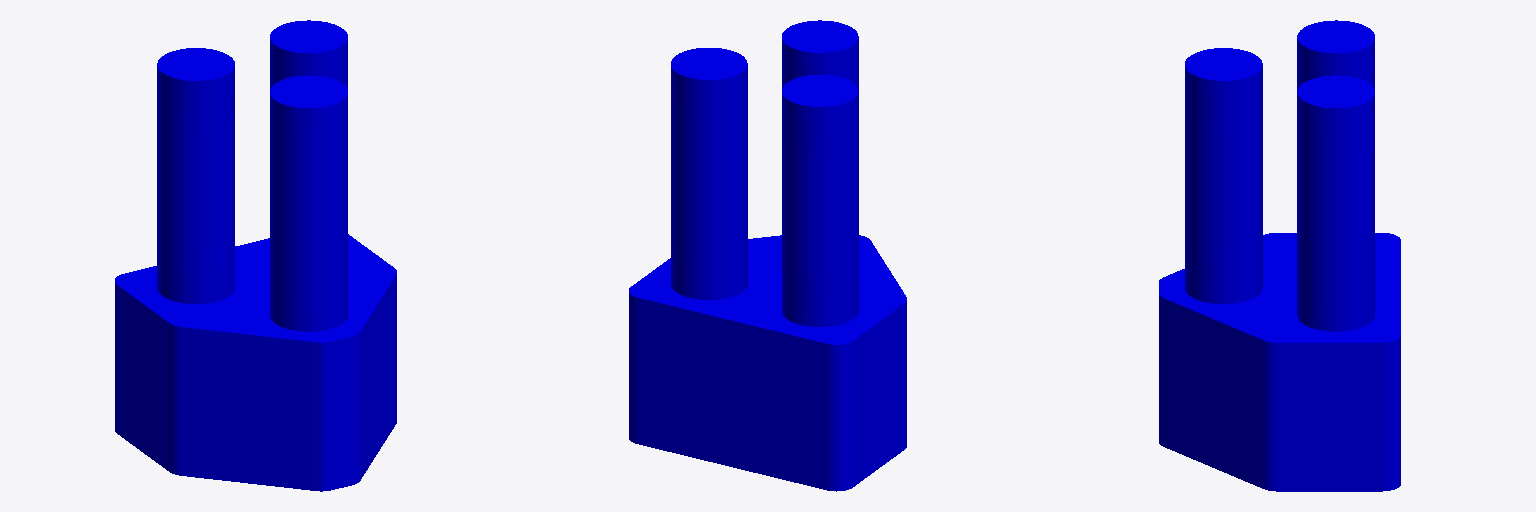
robot.urdf — board1_block2:
<?xml version="1.0"?>
<robot name="board1_block2">
    <link name="board1_block2">
        <visual>
            <origin xyz="0 0 0 " rpy=" 0 0 0"/>
            <geometry>
                <mesh filename="../meshes/SIMO_Board1_Block2.stl" scale="0.001 0.001 0.001"/>
            </geometry>
            <material name="red">
                <color rgba="0.0 0.0 1.0 1.0"/>
            </material>
        </visual>
        <collision>
            <origin xyz="0 0 0" rpy="0 0 0"/>
            <geometry>
                <mesh filename="../meshes/SIMO_Board1_Block2.stl" scale="0.001 0.001 0.001"/>
            </geometry>
        </collision>
    </link>
</robot>

--- What the picture shows (computed from the rendered views, not written in the file) ---
Views: 3 orthographic renders of the robot side by side, from view 1: azimuth 30°, elevation 25°; view 2: azimuth 150°, elevation 25°; view 3: azimuth 270°, elevation 25°.
Robot: board1_block2 — 1 links, 0 joints (none); root link board1_block2; default pose: every joint at zero.
Links seen in each view (by area): view 1: board1_block2; view 2: board1_block2; view 3: board1_block2.
Boxes of the visible links, x1,y1,x2,y2 form: board1_block2: [115, 20, 396, 491]; board1_block2: [629, 20, 906, 491]; board1_block2: [1159, 20, 1400, 491].
Bounding box of the posed robot: 0.0634 × 0.0591 × 0.1 m (x, y, z).
Meshes: 1 distinct files referenced, 1 mesh visuals loaded (1 ASCII STL).